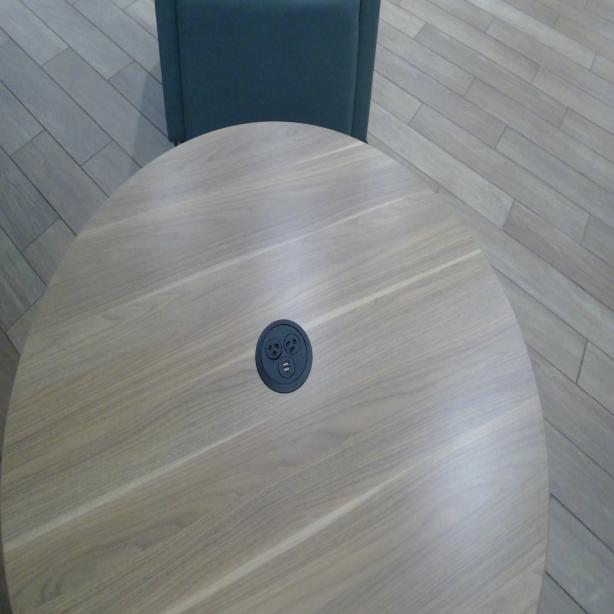typeb: (265, 336, 280, 358), (285, 334, 301, 354)
